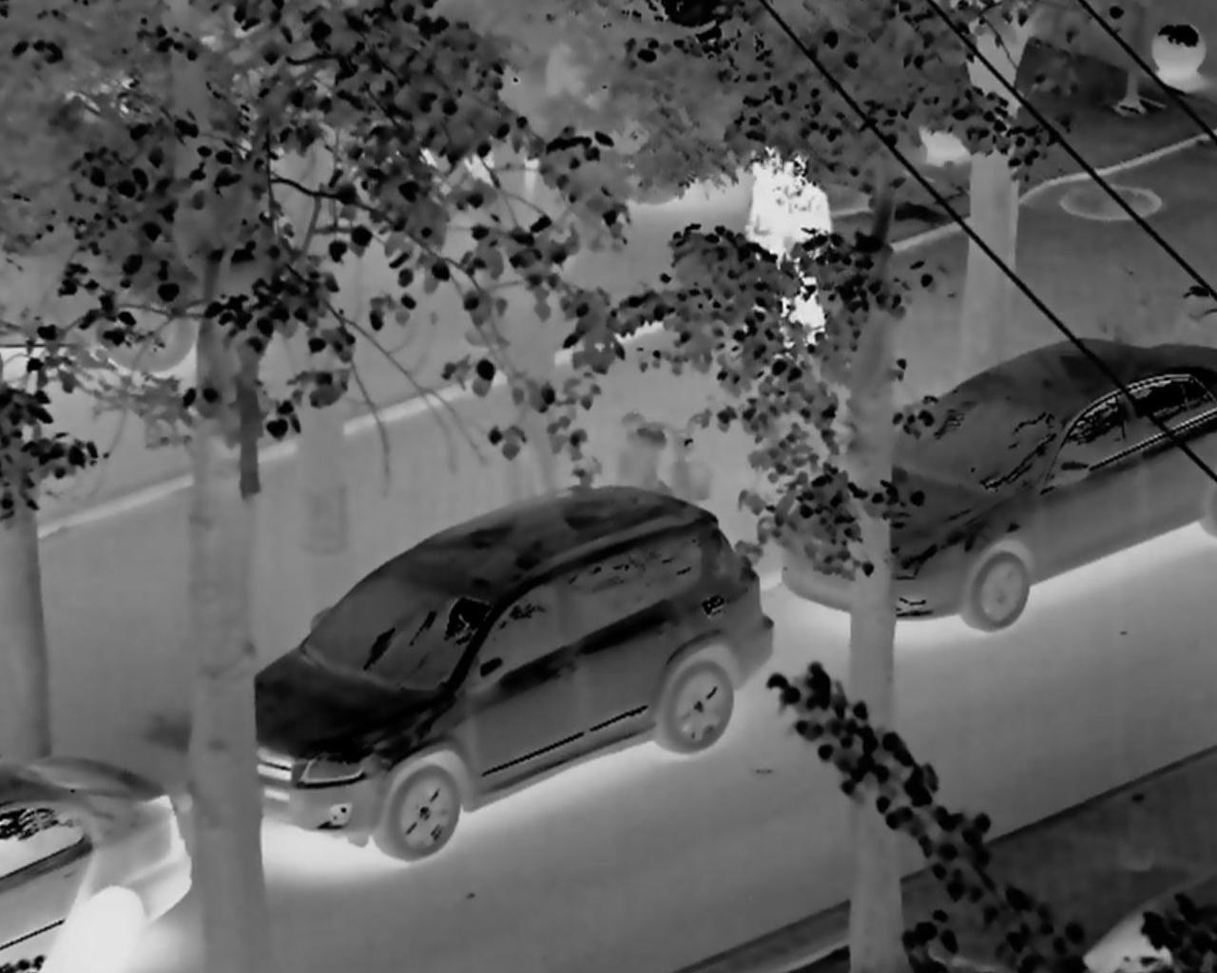person: (733, 114, 833, 341)
